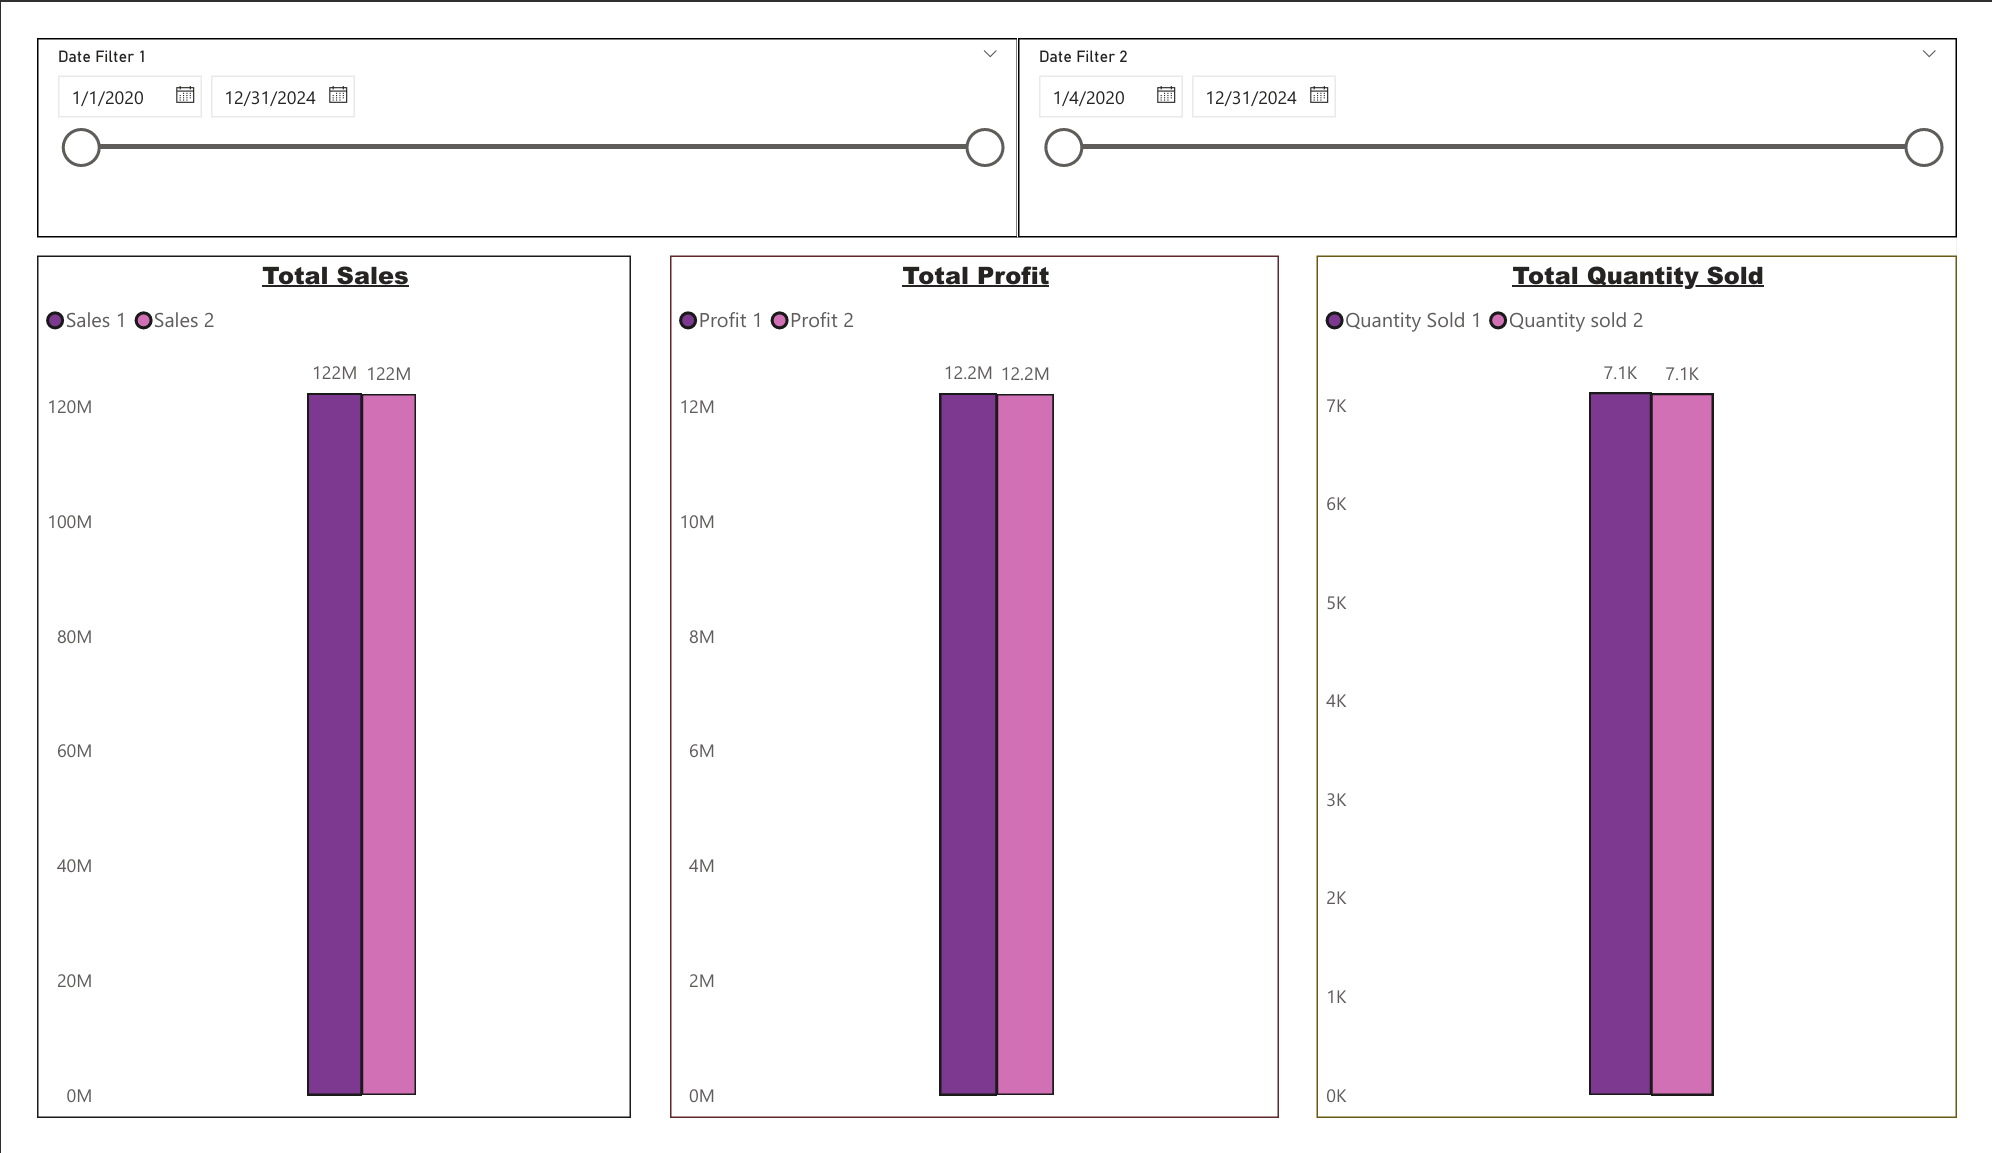

What the dashboard file says about the page in this screenshot:
{"tool":"powerbi","page":{"name":"Sales, Profit, Quantity By Date","canvas":[1280,720],"ordinal":2},"visuals":[{"type":"slicer","fields":{"Values":["Date Table 1.Date"]},"box":[0,0,654.1,132.5],"z":0},{"type":"slicer","fields":{"Values":["Date Table 2.Date"]},"box":[654.1,0,625.7,132.5],"z":1000},{"type":"clusteredColumnChart","title":"Total Sales ","fields":{"Y":["Sum(Fact.Net Sales)","Date Table 1.Sum of net sales"]},"box":[0,145.1,396.5,575.2],"z":2000},{"type":"clusteredColumnChart","title":"Total Quantity Sold","fields":{"Y":["Sum(Fact.Units Sold)","Measures Table.Quantity sold"]},"box":[852.9,145.1,427,575.2],"z":3000},{"type":"clusteredColumnChart","title":"Total Profit","fields":{"Y":["Sum(Fact.Profit)","Measures Table.Total Profit"]},"box":[421.7,145.1,405.9,575.2],"z":4000}]}

Visuals, with their boxes in screenshot pixels (x1, y1, x2, y2), scaled from the page's 1280x720 canvas onto the 1992x1153 screenshot:
slicer - Date Table 1.Date: bbox(0, 0, 1018, 212)
slicer - Date Table 2.Date: bbox(1018, 0, 1991, 212)
"Total Sales " clusteredColumnChart: bbox(0, 232, 617, 1152)
"Total Quantity Sold" clusteredColumnChart: bbox(1327, 232, 1991, 1152)
"Total Profit" clusteredColumnChart: bbox(656, 232, 1288, 1152)
